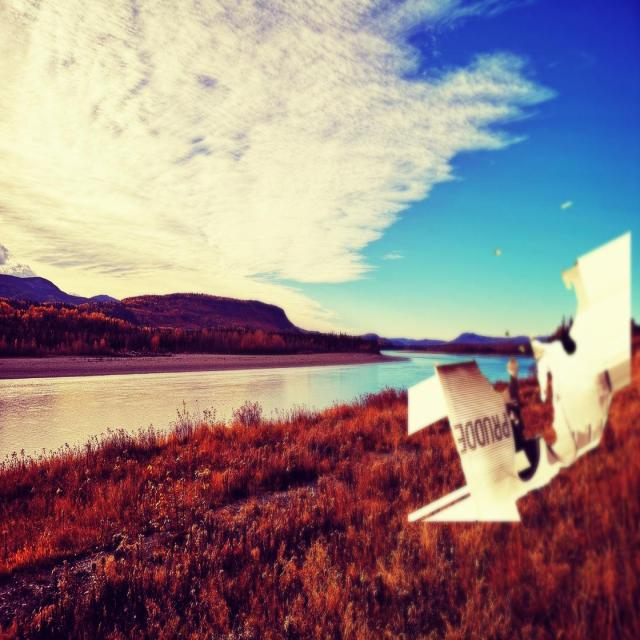airplane: (404, 230, 632, 524)
